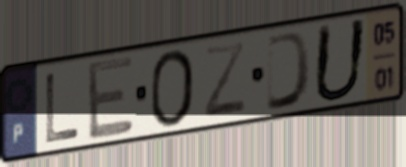D: (264, 28, 315, 114)
E: (85, 52, 136, 144)
L: (43, 70, 83, 147)
O: (148, 46, 196, 130)
U: (310, 16, 371, 106)
Z: (202, 39, 249, 121)
